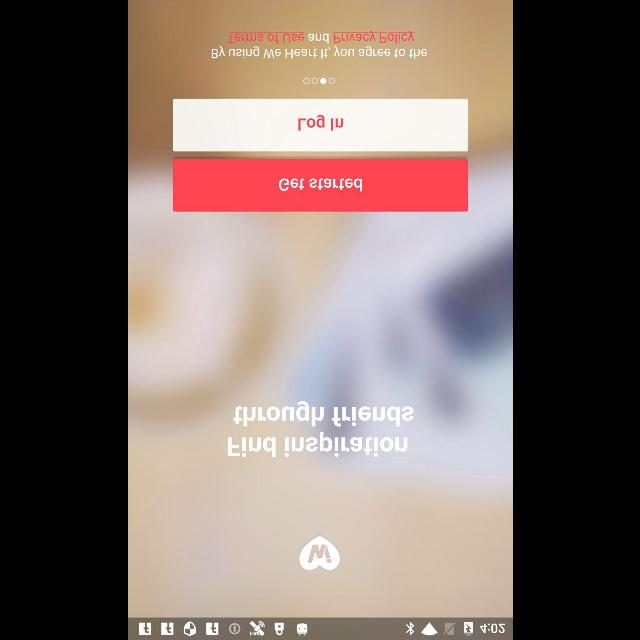image: (298, 534, 339, 570)
pageindicator: (302, 78, 334, 84)
text: (226, 400, 414, 458), (211, 31, 427, 59)
textbutton: (172, 158, 468, 212), (172, 98, 468, 152)
uppertaskbar: (128, 617, 512, 639)
